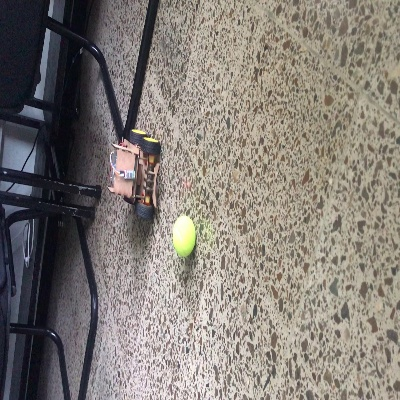Ball: (172, 215, 196, 257)
Robot: (106, 128, 161, 220)
